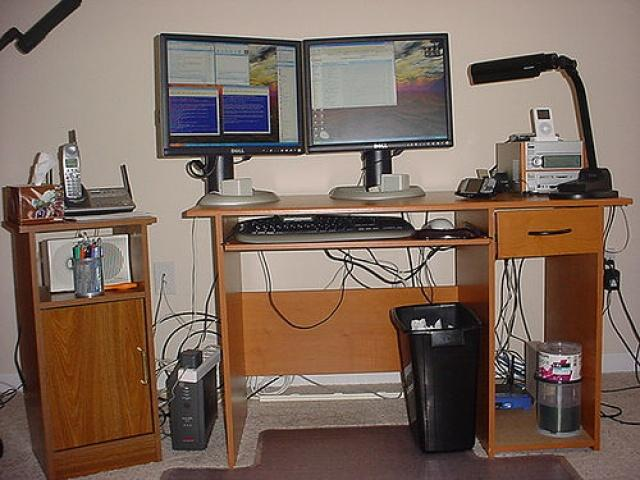AIO PC-Monitor-TV: (153, 32, 305, 158), (300, 30, 453, 155)
Meja: (180, 190, 636, 469)
